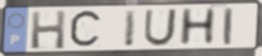C: (68, 8, 104, 51)
H: (178, 6, 219, 47), (30, 9, 68, 51)
I: (123, 8, 139, 48), (223, 6, 234, 47)
U: (142, 8, 179, 48)
